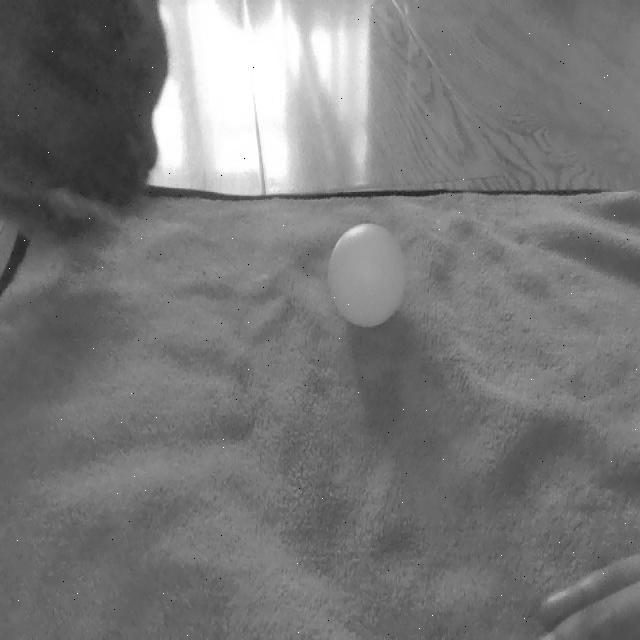ping-pong-ball: (327, 228, 408, 327)
